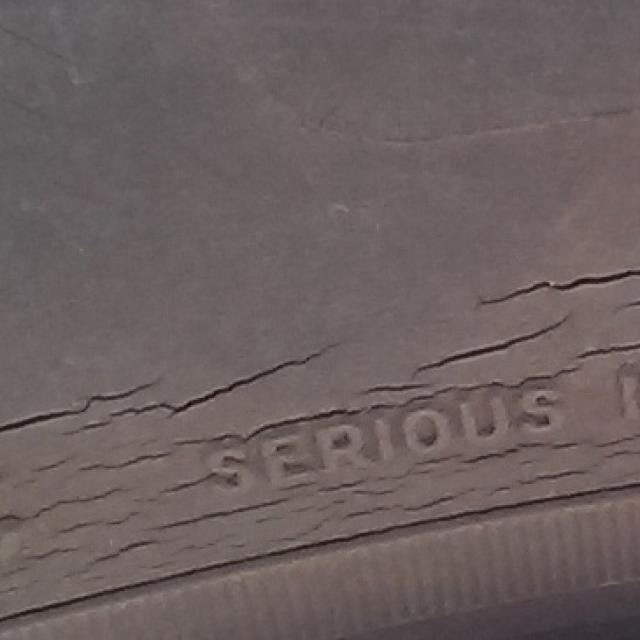Cracks: (0, 245, 638, 626)
Non-defective: (0, 0, 640, 222)
